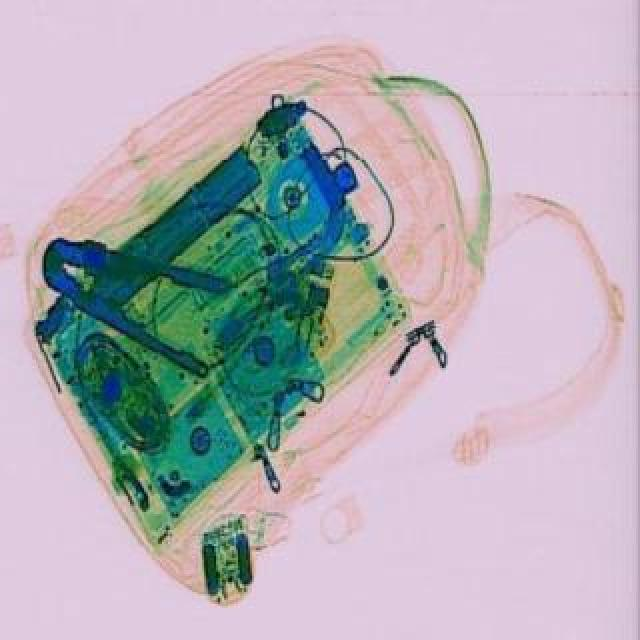wrench: (22, 220, 246, 378)
